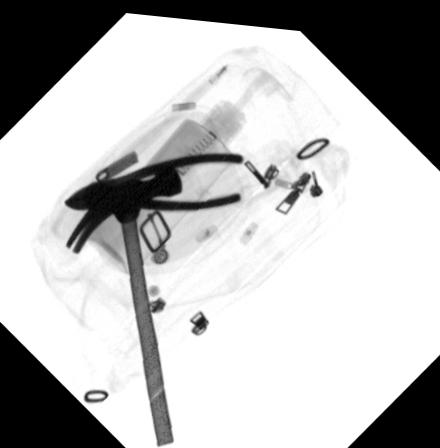Hammer: (63, 163, 183, 441)
Pliers: (61, 146, 242, 209)
